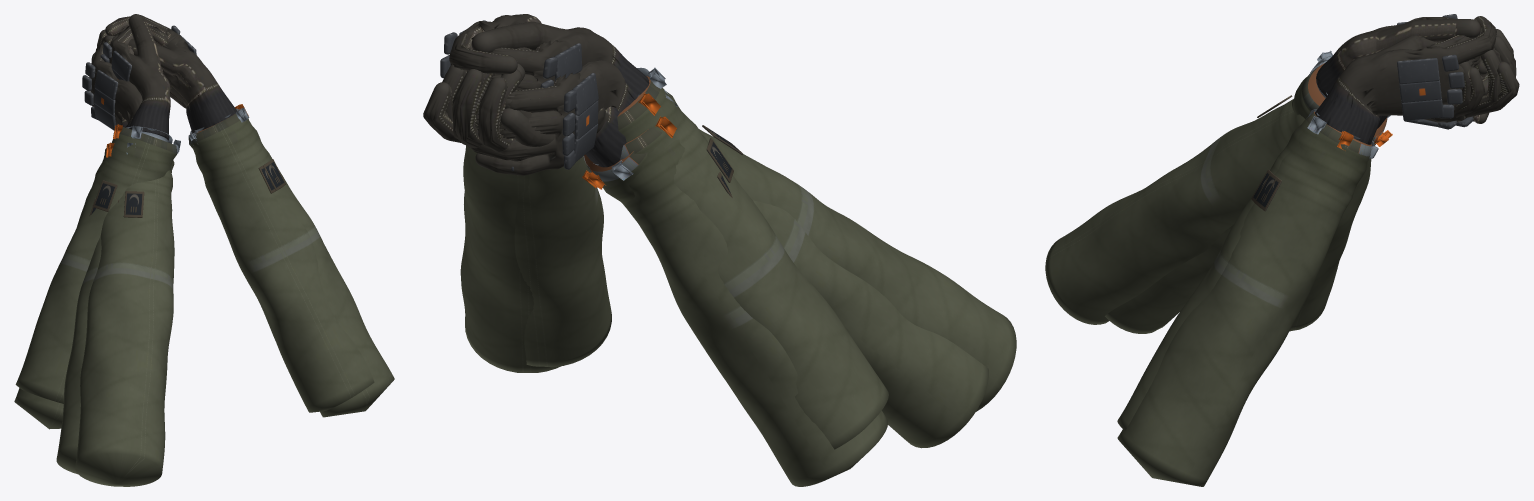
Rendered from vm_hands.glb.
The picture shows the model from 3 angles, left to right: view 1: azimuth 30°, elevation 25°; view 2: azimuth 150°, elevation 25°; view 3: azimuth 270°, elevation 25°; orthographic projection. The views are drawn at different scales.
Parts seen in each view (by area): view 1: l_fore_h.sleeve, r_pistol.sleeve, l_fore_v.sleeve, r_rifle.sleeve, l_fore_v.glove, r_pistol.glove, l_pump.sleeve, l_cup.glove, l_cup.sleeve, r_rifle.glove, l_fore_v.cuff; view 2: l_fore_v.sleeve, l_cup.sleeve, l_pump.sleeve, l_fore_h.sleeve, r_pistol.sleeve, r_rifle.sleeve, l_cup.glove, l_fore_v.glove, l_fore_h.glove, r_pistol.glove, l_pump.glove; view 3: r_rifle.sleeve, l_fore_h.sleeve, r_pistol.glove, l_pump.sleeve, l_fore_v.glove, r_pistol.sleeve, r_rifle.glove, l_cup.sleeve, l_fore_h.glove, l_pump.glove, l_fore_v.sleeve.
Boxes of the visible parts, bbox=[...] form: l_fore_h.sleeve: bbox=[75, 160, 174, 486]; r_pistol.sleeve: bbox=[188, 116, 374, 412]; l_fore_v.sleeve: bbox=[15, 127, 177, 403]; r_rifle.sleeve: bbox=[231, 108, 394, 417]; l_fore_v.glove: bbox=[100, 14, 170, 140]; r_pistol.glove: bbox=[105, 15, 232, 133]; l_pump.sleeve: bbox=[56, 200, 118, 474]; l_cup.glove: bbox=[82, 44, 142, 130]; l_cup.sleeve: bbox=[14, 148, 108, 429]; r_rifle.glove: bbox=[180, 60, 237, 114]; l_fore_v.cuff: bbox=[113, 124, 180, 153]; l_fore_v.sleeve: bbox=[617, 76, 888, 449]; l_cup.sleeve: bbox=[620, 127, 887, 486]; l_pump.sleeve: bbox=[584, 151, 988, 448]; l_fore_h.sleeve: bbox=[699, 125, 1016, 411]; r_pistol.sleeve: bbox=[514, 156, 611, 367]; r_rifle.sleeve: bbox=[460, 145, 560, 372]; l_cup.glove: bbox=[468, 60, 637, 175]; l_fore_v.glove: bbox=[471, 21, 649, 95]; l_fore_h.glove: bbox=[423, 69, 619, 172]; r_pistol.glove: bbox=[440, 14, 537, 85]; l_pump.glove: bbox=[442, 64, 626, 171]; r_rifle.sleeve: bbox=[1117, 124, 1371, 486]; l_fore_h.sleeve: bbox=[1045, 95, 1304, 324]; r_pistol.glove: bbox=[1315, 16, 1496, 120]; l_pump.sleeve: bbox=[1105, 117, 1387, 333]; l_fore_v.glove: bbox=[1316, 14, 1480, 96]; r_pistol.sleeve: bbox=[1117, 111, 1316, 430]; r_rifle.glove: bbox=[1320, 52, 1380, 144]; l_cup.sleeve: bbox=[1290, 158, 1371, 331]; l_fore_h.glove: bbox=[1404, 29, 1519, 129]; l_pump.glove: bbox=[1377, 35, 1501, 128]; l_fore_v.sleeve: bbox=[1292, 63, 1325, 118].
Size of the model in its own units: 0.518 by 0.4845 by 0.5105.
1 material, 1 textured.
